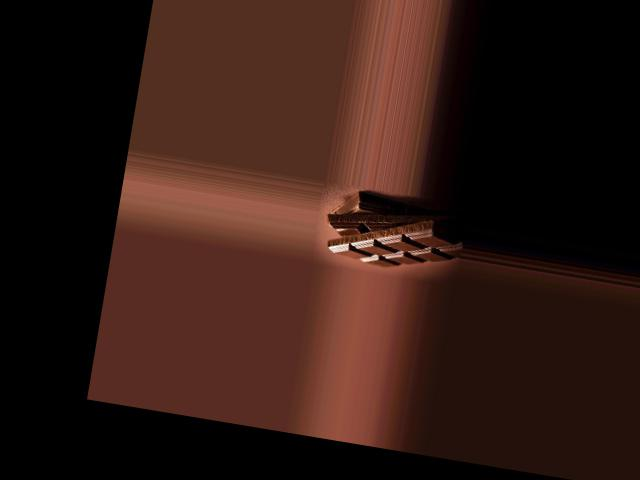chocolate: (322, 195, 463, 277)
